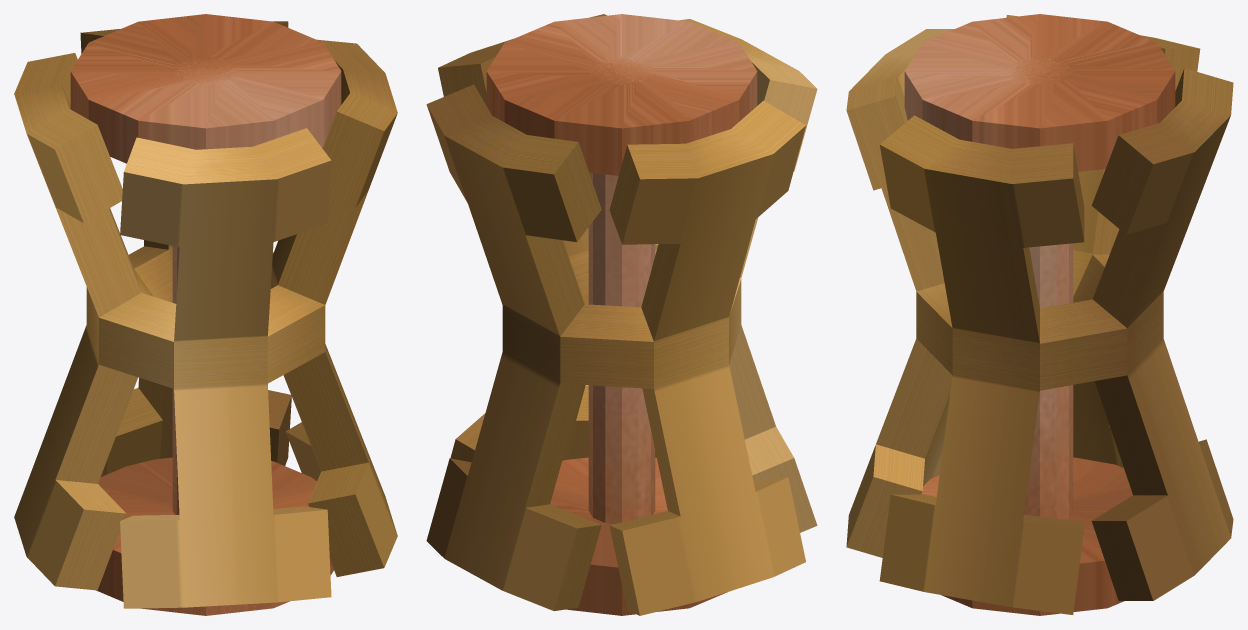
Rendered from DESERT_PLATFORM.fbx.
The picture shows the model from 3 angles, left to right: view 1: azimuth 30°, elevation 25°; view 2: azimuth 150°, elevation 25°; view 3: azimuth 270°, elevation 25°; orthographic projection.
Visible parts, largest first — view 1: FRAME, PLATFORM; view 2: FRAME, PLATFORM; view 3: FRAME, PLATFORM.
Part boxes in pixels (left/top/right/bottom): FRAME: left=14, top=21, right=397, bottom=608; PLATFORM: left=70, top=14, right=341, bottom=615; FRAME: left=426, top=14, right=817, bottom=615; PLATFORM: left=486, top=14, right=757, bottom=615; FRAME: left=846, top=15, right=1233, bottom=614; PLATFORM: left=904, top=14, right=1175, bottom=615.
Size of the model in its own units: 9.41 by 13.08 by 9.41.
2 materials, 2 textured.
